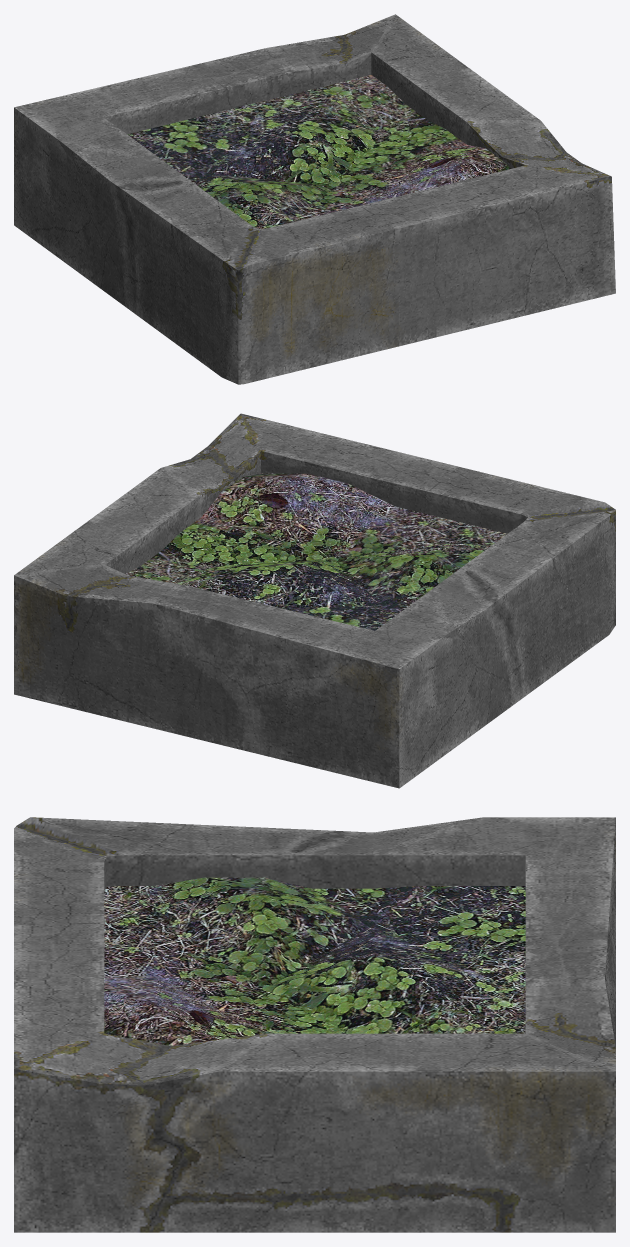
Rendered from Flowerbed_01.fbx.
3 renders of one model, top to bottom at view 1: azimuth 30°, elevation 25°; view 2: azimuth 150°, elevation 25°; view 3: azimuth 270°, elevation 25°, orthographic. The views are drawn at different scales.
Visible parts, largest first — view 1: Flowerbed_01; view 2: Flowerbed_01; view 3: Flowerbed_01.
Part boxes in pixels (<box>): Flowerbed_01: <box>14,14,615,384</box>; Flowerbed_01: <box>14,413,615,788</box>; Flowerbed_01: <box>14,817,615,1232</box>.
Size of the model in its own units: 76.33 by 22.89 by 76.33.
